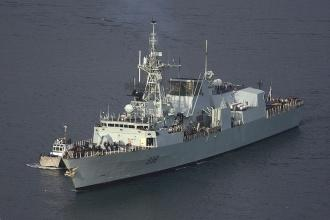otherboat: (38, 123, 79, 167)
warship: (58, 26, 297, 185)
